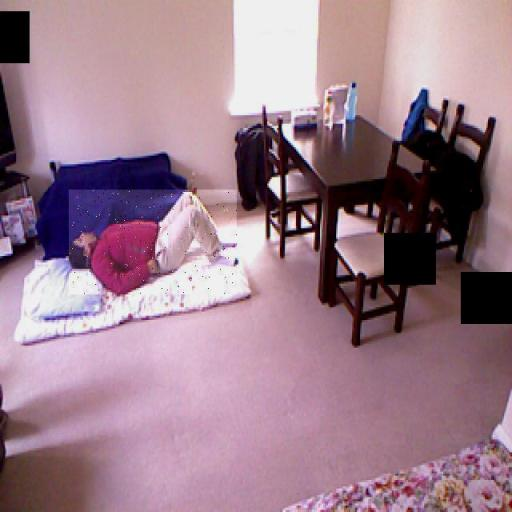Fall: (69, 190, 237, 295)
